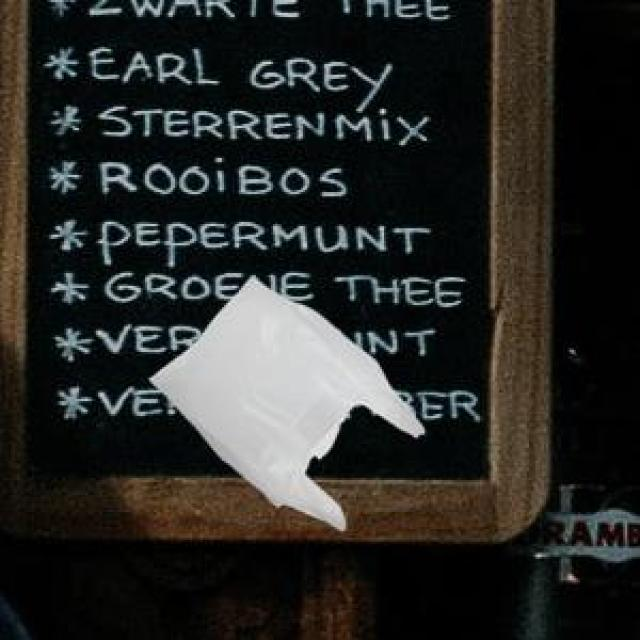plastic: (120, 263, 434, 533)
